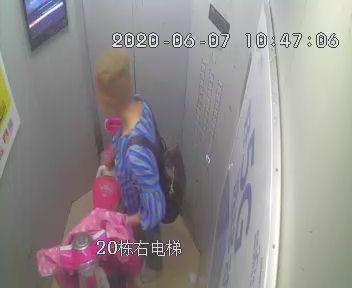Electric-bicycle: (36, 113, 145, 283)
